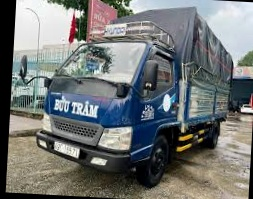Bien-so: (44, 148, 72, 165)
